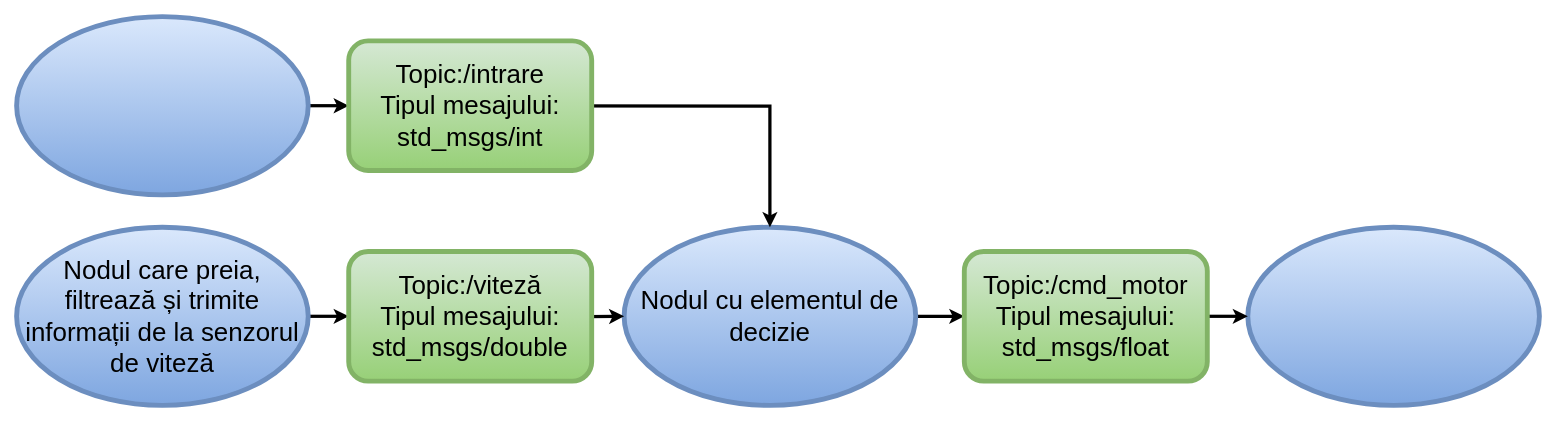
The diagram is 1555 pixels wide and 421 high, and some of its shapes have lost their labels. Each missing label, with the centre of its shape:
"Nodul care preia, filtrează și trimite semnalul de intrare" goes at pixel 162 105.
"Nodul ce transmite la elementul de execuție" goes at pixel 1393 315.
